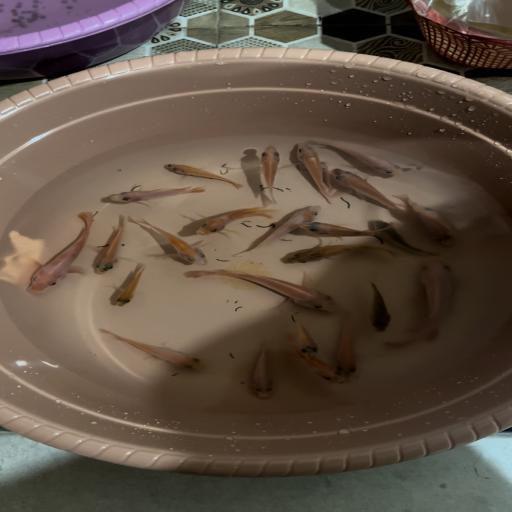nila: (182, 267, 344, 320), (21, 210, 101, 299), (391, 258, 463, 352), (95, 327, 208, 373), (234, 202, 325, 259), (134, 216, 212, 268), (311, 136, 409, 176), (398, 194, 460, 251), (328, 166, 405, 211), (192, 205, 284, 242), (281, 340, 347, 391), (160, 157, 246, 195), (288, 141, 338, 202), (280, 240, 395, 266), (104, 183, 210, 211), (89, 215, 136, 276), (367, 218, 435, 257), (249, 143, 286, 204), (245, 341, 278, 405), (106, 266, 152, 310), (292, 219, 393, 239), (280, 317, 323, 363), (334, 319, 368, 377), (364, 281, 394, 337), (411, 202, 459, 234), (313, 160, 338, 194)
